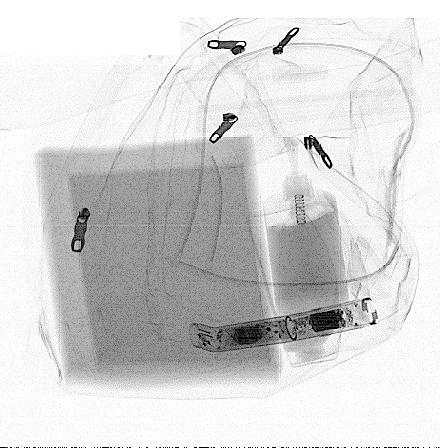Baton: (186, 293, 381, 356)
